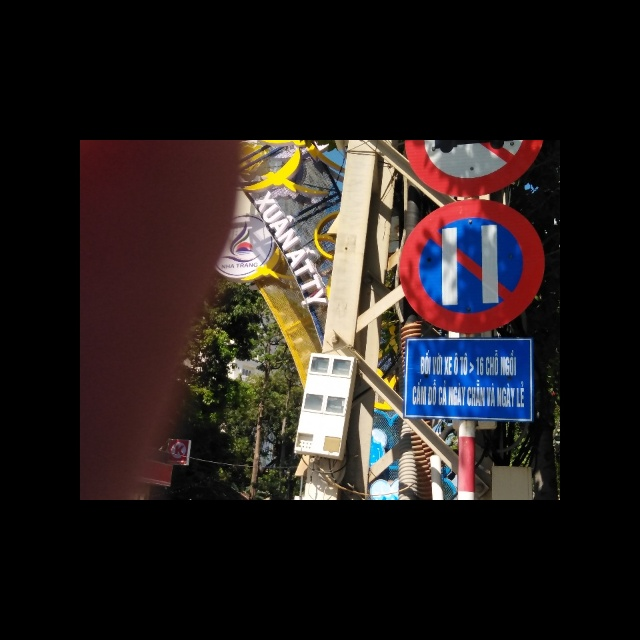Cấm đỗ xe ngày chẵn: (395, 195, 542, 335)
